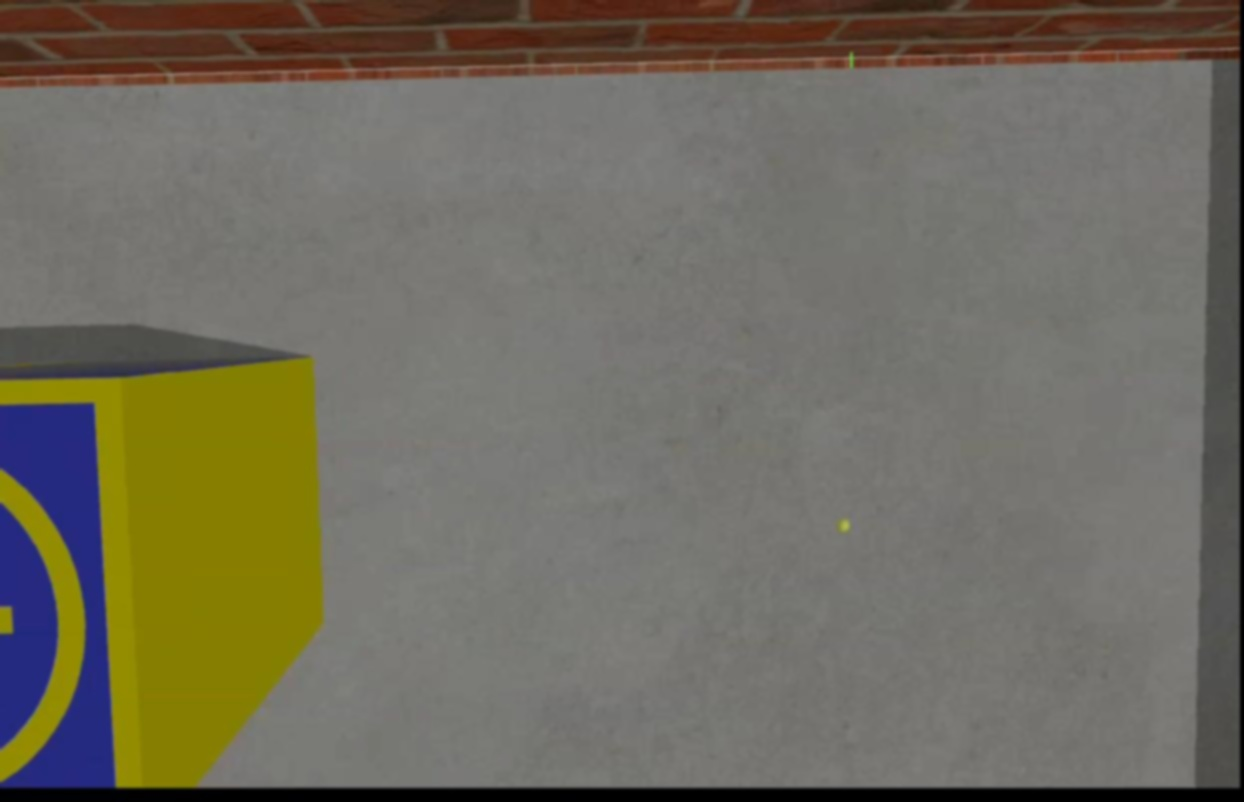small_base: (0, 371, 144, 789)
